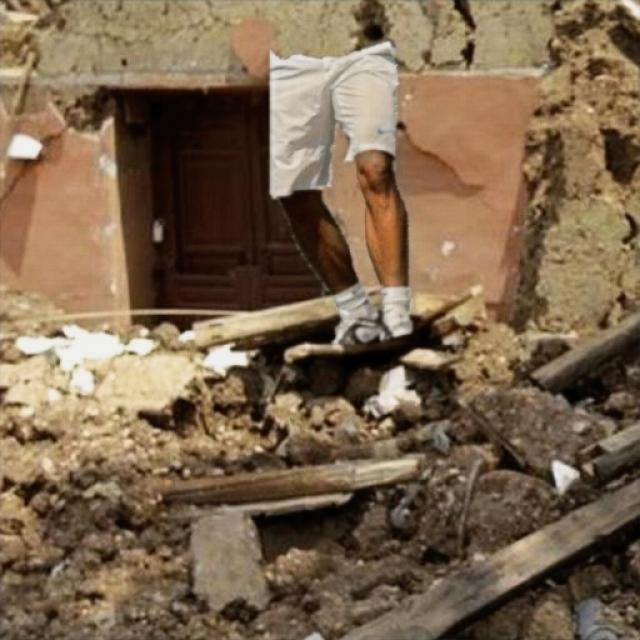Person in Rubble: (270, 41, 411, 342)
